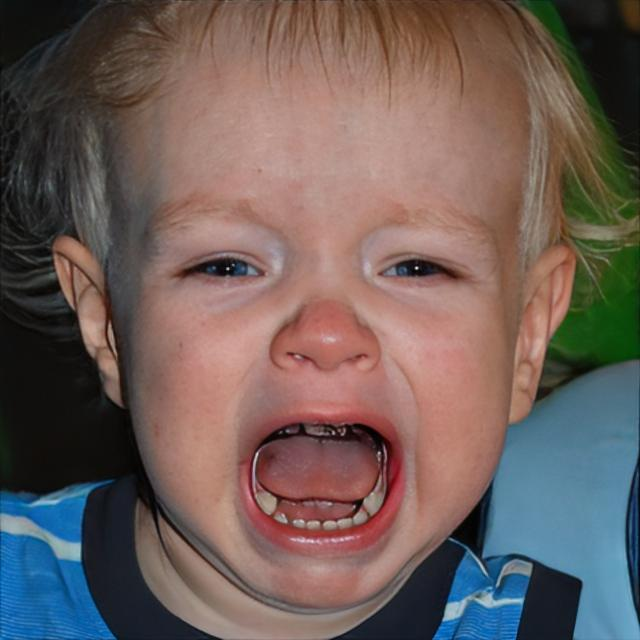sad: (116, 58, 520, 614)
